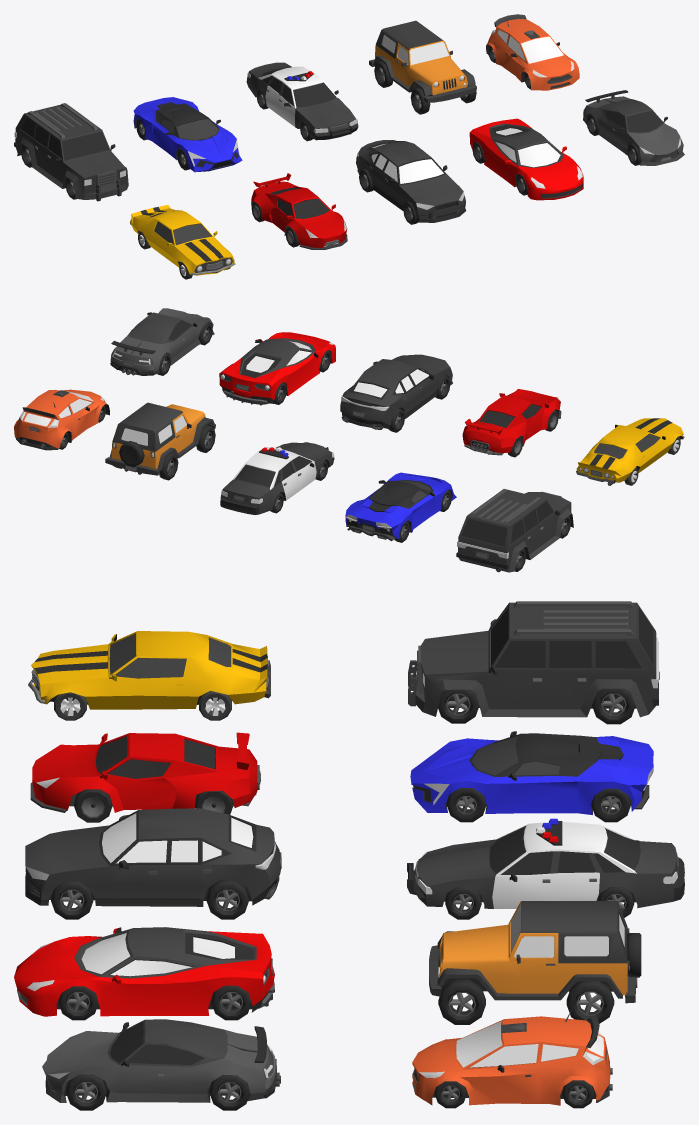
File: sketc.fbx
3 renders of one model, top to bottom at view 1: azimuth 30°, elevation 25°; view 2: azimuth 150°, elevation 25°; view 3: azimuth 270°, elevation 25°, orthographic. The views are drawn at different scales.
Visible parts, largest first — view 1: Cube.034, Cube.074, Cube.072, Cube.070, Cube.082, Cube.053, Cube.029, Cube.055, Cube, Cube.015, Cube.061, Cylinder.056 (+1 smaller); view 2: Cube.034, Cube.074, Cube.072, Cube.082, Cube.070, Cube, Cube.029, Cube.055, Cube.015, Cube.053, Cube.061, Cylinder.049; view 3: Cube.034, Cube.074, Cube.072, Cube.082, Cube.070, Cube, Cube.029, Cube.055, Cube.015, Cube.053, Cube.061, Cylinder.056 (+16 smaller).
Boxes of the visible parts, x1=… form: Cube.034: x1=15, y1=103, x2=128, y2=199; Cube.074: x1=356, y1=140, x2=466, y2=222; Cube.072: x1=469, y1=118, x2=583, y2=200; Cube.070: x1=133, y1=97, x2=242, y2=172; Cube.082: x1=246, y1=62, x2=358, y2=140; Cube.053: x1=486, y1=18, x2=579, y2=90; Cube.029: x1=583, y1=96, x2=684, y2=165; Cube.055: x1=375, y1=20, x2=467, y2=95; Cube: x1=130, y1=205, x2=234, y2=275; Cube.015: x1=251, y1=181, x2=347, y2=247; Cube.061: x1=373, y1=55, x2=475, y2=96; Cylinder.056: x1=410, y1=84, x2=476, y2=114; Cube.034: x1=458, y1=489, x2=573, y2=572; Cube.074: x1=340, y1=354, x2=452, y2=428; Cube.072: x1=219, y1=332, x2=335, y2=403; Cube.082: x1=220, y1=442, x2=334, y2=514; Cube.070: x1=345, y1=472, x2=456, y2=539; Cube: x1=576, y1=418, x2=683, y2=482; Cube.029: x1=110, y1=308, x2=214, y2=375; Cube.055: x1=111, y1=402, x2=205, y2=468; Cube.015: x1=462, y1=389, x2=560, y2=453; Cube.053: x1=14, y1=389, x2=109, y2=448; Cube.061: x1=109, y1=417, x2=214, y2=470; Cylinder.049: x1=119, y1=441, x2=144, y2=467; Cube.034: x1=414, y1=602, x2=657, y2=717; Cube.074: x1=25, y1=808, x2=280, y2=906; Cube.072: x1=14, y1=927, x2=274, y2=1016; Cube.082: x1=412, y1=821, x2=684, y2=908; Cube.070: x1=410, y1=733, x2=653, y2=814; Cube: x1=31, y1=631, x2=267, y2=709; Cube.029: x1=42, y1=1019, x2=273, y2=1102; Cube.055: x1=439, y1=901, x2=627, y2=995; Cube.015: x1=32, y1=733, x2=257, y2=812; Cube.053: x1=412, y1=1016, x2=610, y2=1105; Cube.061: x1=437, y1=931, x2=622, y2=1000; Cylinder.056: x1=438, y1=958, x2=485, y2=1024.
Size of the model in its own units: 2066 by 195 by 1346.
